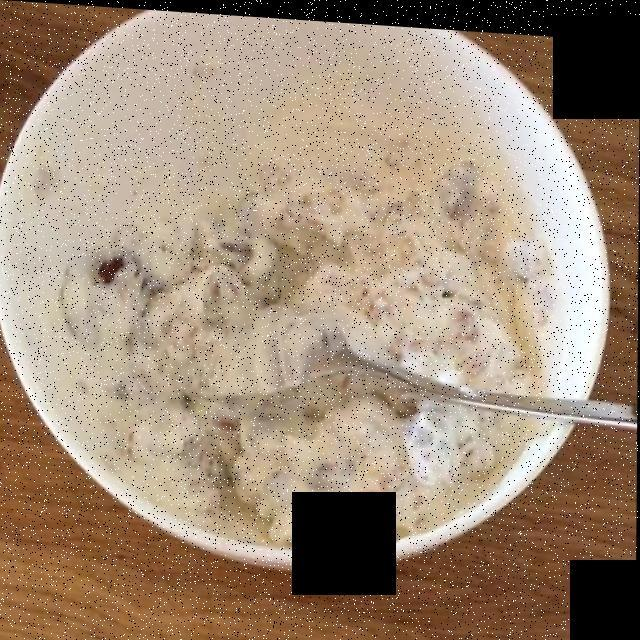yogurt: (73, 147, 555, 523)
